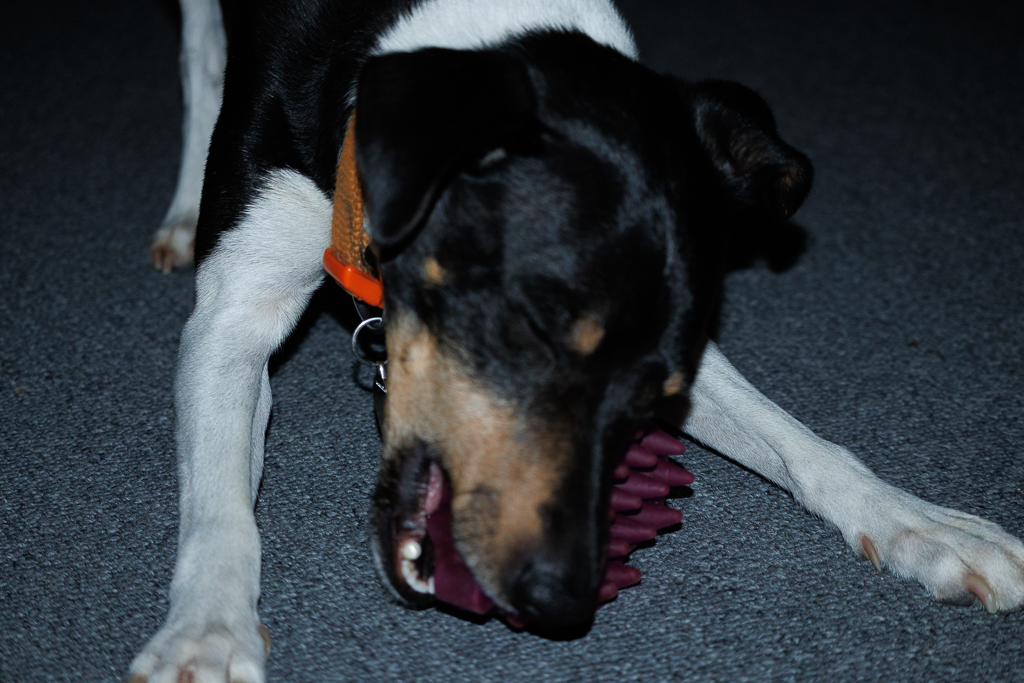Dog: (111, 0, 1024, 683)
